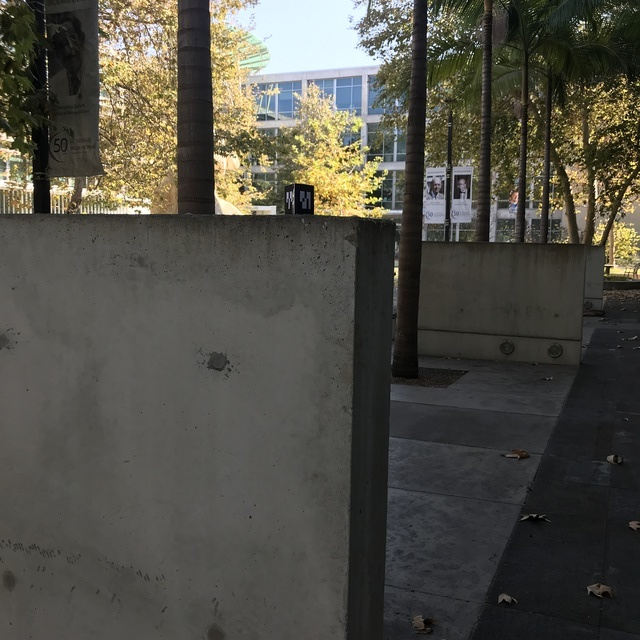ARTag: (284, 183, 315, 218)
